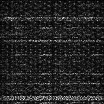lte: (1, 95, 104, 100), (1, 16, 104, 21), (1, 39, 104, 42)
